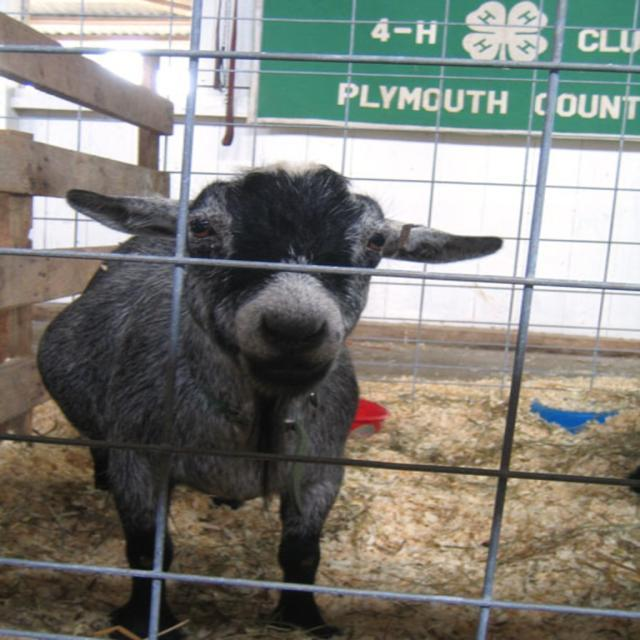Goat: (34, 160, 503, 639)
